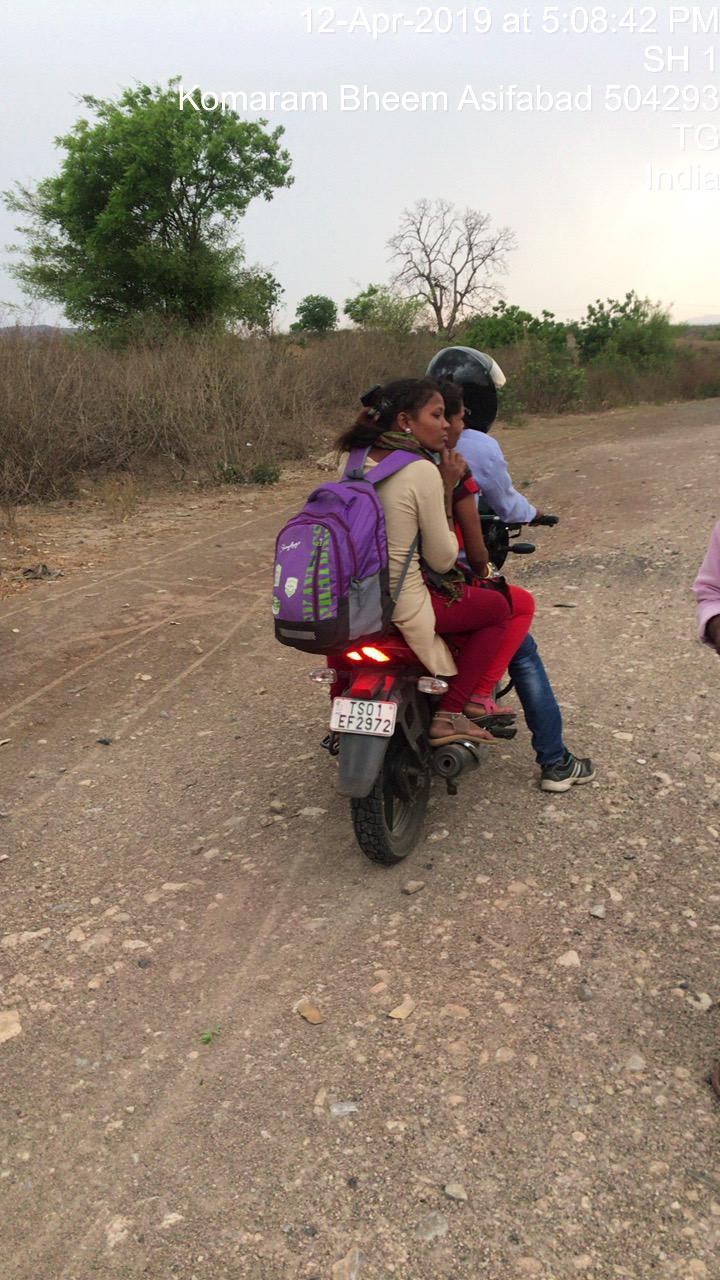plate: (324, 689, 410, 747)
